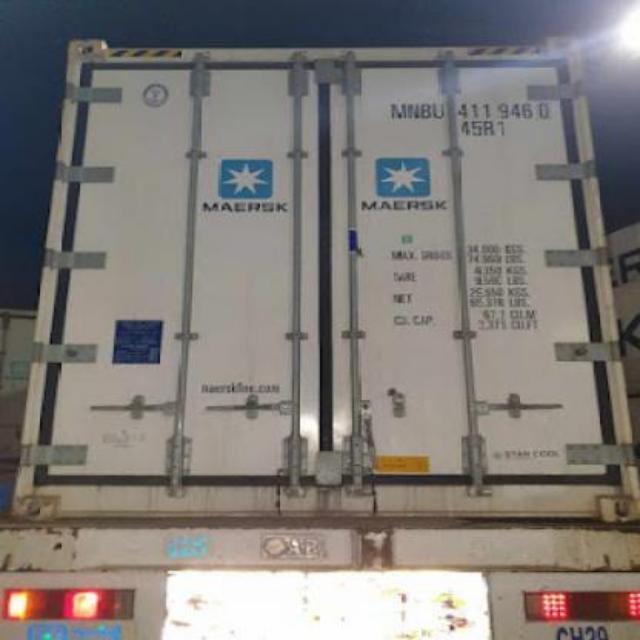0: (538, 97, 554, 123)
1: (468, 100, 480, 124), (481, 100, 494, 122)
4: (508, 98, 522, 122), (456, 100, 469, 122)
6: (522, 94, 534, 122)
9: (496, 99, 509, 123)
B: (420, 98, 432, 124)
M: (390, 99, 408, 123)
N: (408, 95, 420, 121)
U: (432, 98, 448, 124)
